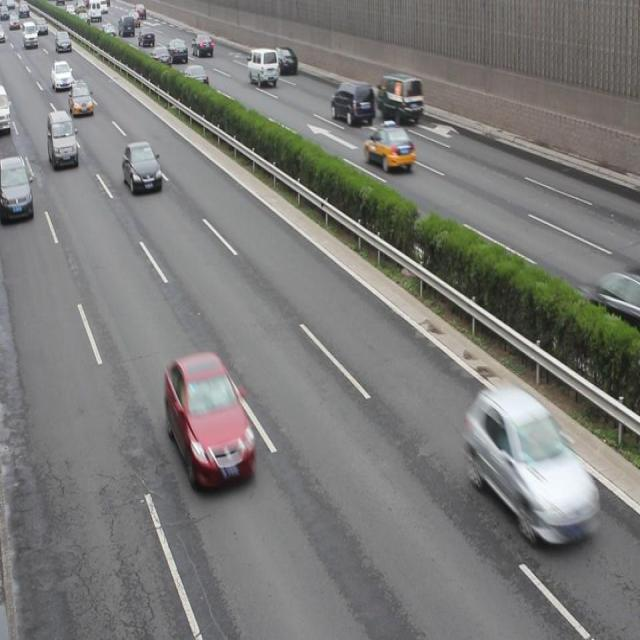car: (465, 386, 592, 546), (165, 355, 257, 489), (594, 269, 640, 331), (363, 121, 414, 172), (1, 155, 34, 223), (123, 141, 162, 194), (70, 81, 93, 115), (271, 47, 297, 74), (52, 60, 73, 92), (184, 65, 209, 88), (166, 38, 188, 62), (192, 34, 214, 58), (150, 46, 171, 67), (139, 27, 155, 49), (56, 33, 71, 52)
truck: (377, 75, 422, 121), (330, 80, 373, 124), (48, 110, 78, 168), (246, 48, 278, 86), (1, 84, 10, 134)
